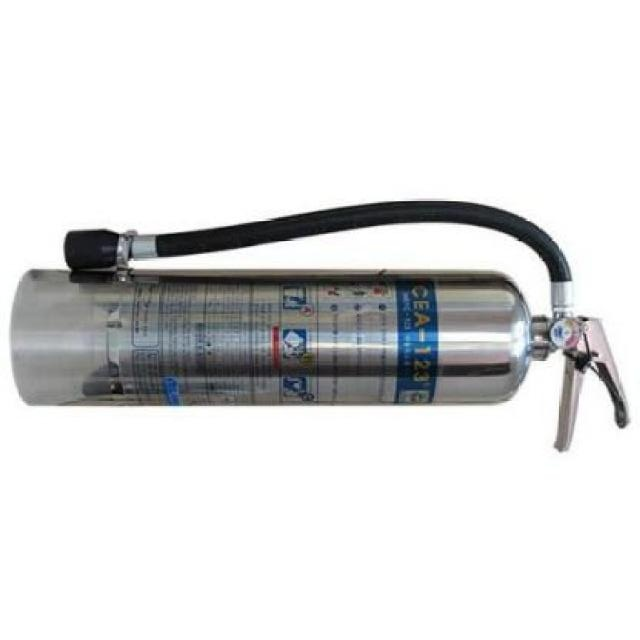fire extinguisher: (10, 198, 632, 451)
